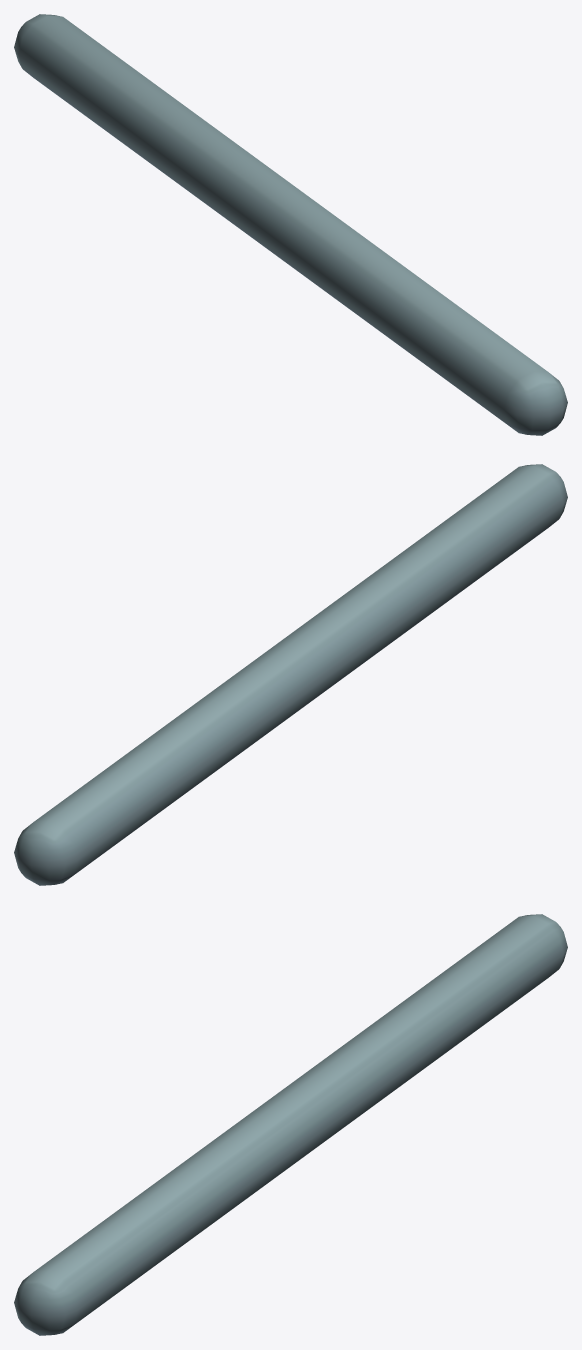
Rendered from SawLine.fbx.
The picture shows the model from 3 angles, top to bottom: view 1: azimuth 30°, elevation 25°; view 2: azimuth 150°, elevation 25°; view 3: azimuth 330°, elevation 25°; orthographic projection.
Parts seen in each view (by area): view 1: SawLine; view 2: SawLine; view 3: SawLine.
Part boxes in pixels (x1,y1,x2,y2): SawLine: (14, 14, 567, 435); SawLine: (14, 464, 567, 885); SawLine: (14, 914, 567, 1335).
Size of the model in its own units: 0.1302 by 0.1302 by 1.97.
